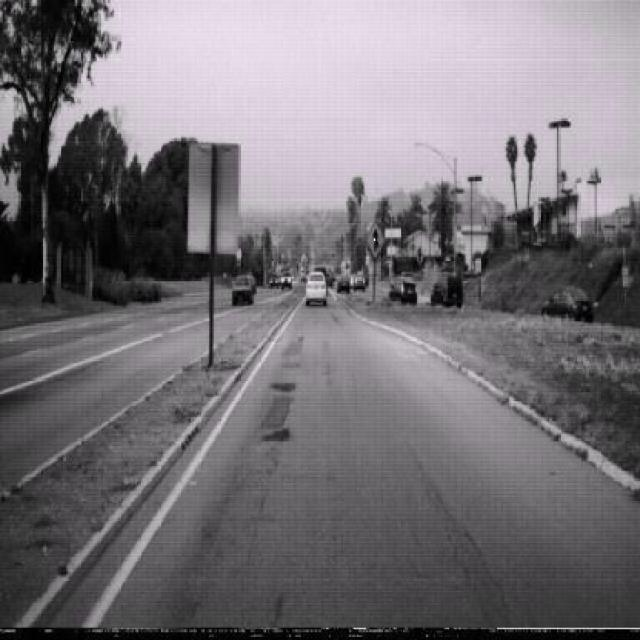merge: (364, 218, 386, 260)
